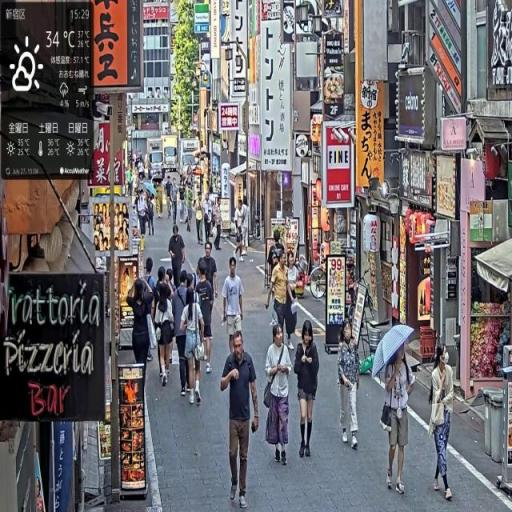person: (219, 331, 260, 508), (383, 346, 418, 497), (265, 322, 296, 468), (429, 345, 457, 504), (294, 320, 320, 461), (338, 317, 363, 451), (182, 288, 207, 408), (154, 266, 176, 387), (172, 271, 192, 391), (196, 261, 216, 378), (223, 257, 245, 356), (170, 224, 186, 294), (214, 199, 224, 250)
